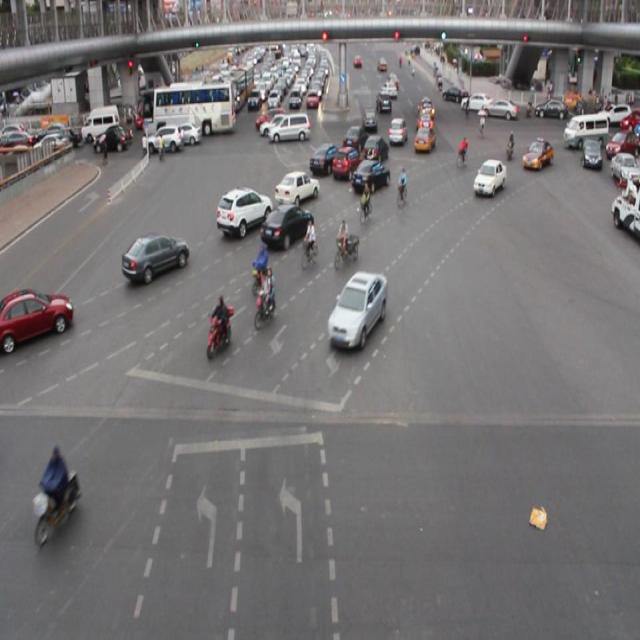car: (327, 269, 388, 344), (1, 284, 72, 345), (122, 233, 191, 281), (215, 185, 272, 235), (260, 202, 313, 248), (274, 169, 320, 206), (471, 156, 506, 198), (351, 158, 388, 194), (520, 136, 553, 173), (309, 141, 342, 174), (360, 134, 388, 166), (331, 146, 358, 177), (386, 115, 407, 147), (341, 125, 367, 150), (413, 125, 435, 152)
